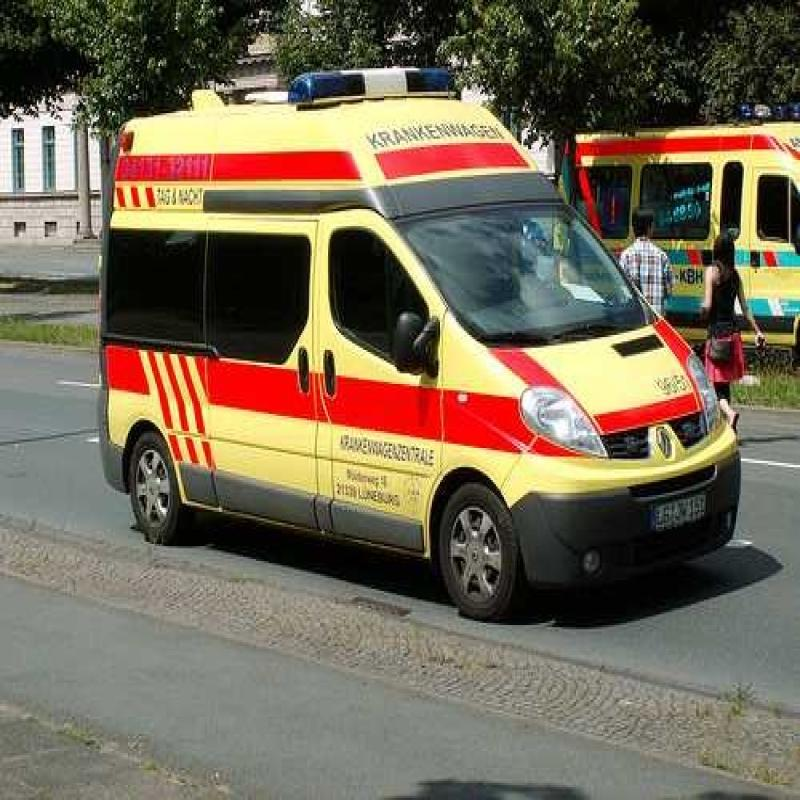AmbulanceSiren: (280, 52, 473, 111)
